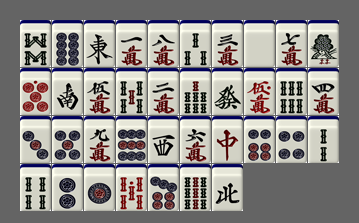0m: (244, 68, 275, 115)
0p: (20, 68, 51, 115)
0s: (116, 164, 147, 211)
1m: (116, 20, 147, 67)
1p: (84, 164, 115, 211)
1s: (308, 20, 339, 67)
1z: (84, 20, 115, 67)
2m: (148, 68, 179, 115)
2p: (52, 164, 83, 211)
2s: (308, 116, 339, 163)
2z: (52, 68, 83, 115)
3m: (212, 20, 243, 67)
3p: (20, 116, 51, 163)
3s: (180, 20, 211, 67)
3z: (148, 116, 179, 163)
4m: (308, 68, 339, 115)
4p: (276, 116, 307, 163)
4s: (20, 164, 51, 211)
4z: (212, 164, 243, 211)
5m: (84, 68, 115, 115)
5p: (52, 116, 83, 163)
5s: (116, 68, 147, 115)
5z: (244, 20, 275, 67)
6m: (180, 116, 211, 163)
6p: (244, 116, 275, 163)
6s: (276, 68, 307, 115)
6z: (212, 68, 243, 115)
7m: (276, 20, 307, 67)
7p: (148, 164, 179, 211)
7s: (180, 68, 211, 115)
7z: (212, 116, 243, 163)
8m: (148, 20, 179, 67)
8p: (52, 20, 83, 67)
8s: (20, 20, 51, 67)
9m: (84, 116, 115, 163)
9p: (116, 116, 147, 163)
9s: (180, 164, 211, 211)
